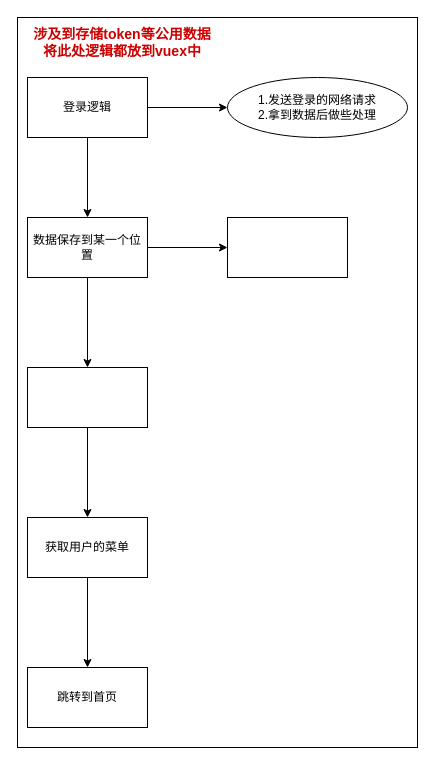
Some shapes in this 435 by 765 pixel diagram are drawn without their labels. The box of each missing label's shape, as (x1, y1, x2, y2) in pixels:
可能还会立即发送其他请求 比如用户信息: (26, 366, 148, 428)
本地保存token: (226, 216, 348, 278)
